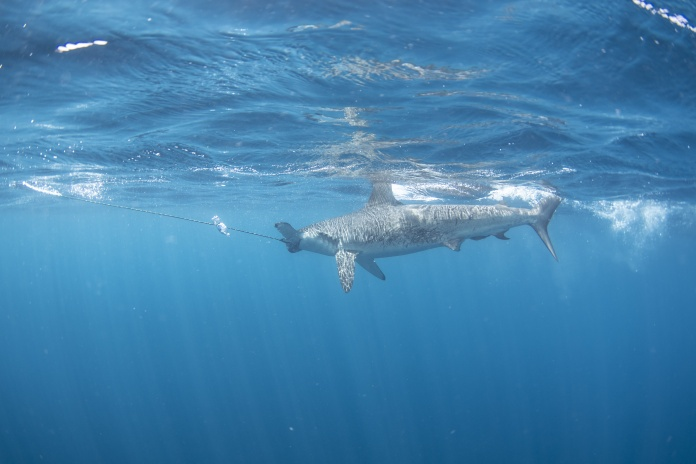Hammer: (247, 155, 577, 307)
